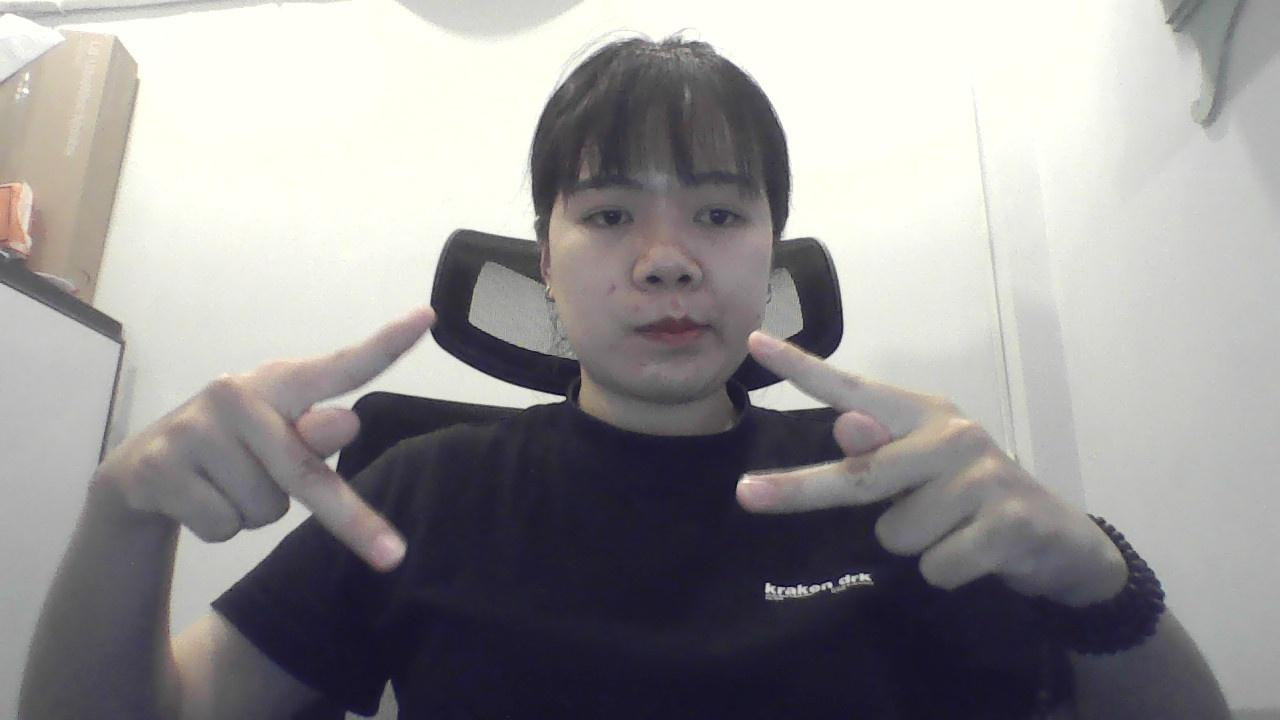P: (721, 314, 1082, 615), (89, 301, 432, 584)
